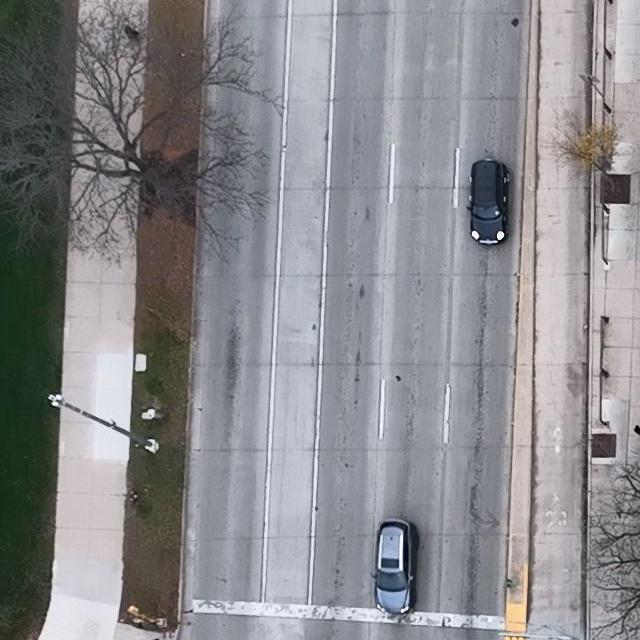car: (369, 518, 420, 615), (466, 158, 511, 247)
